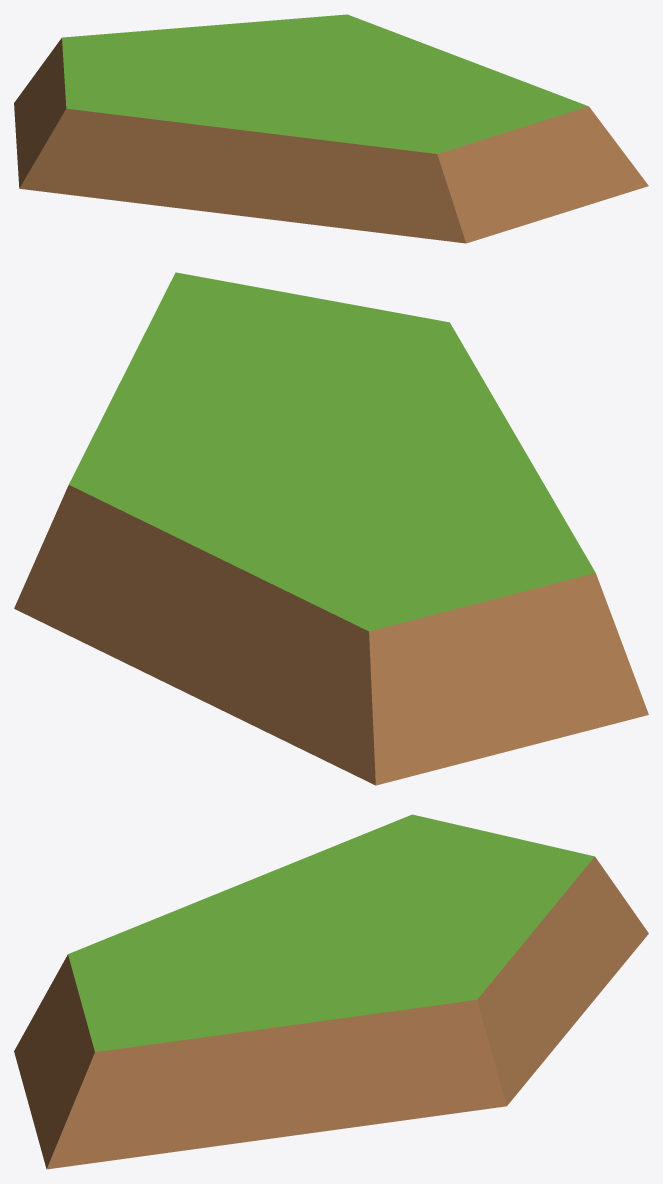
File: rock_smallFlatB.glb
The picture shows the model from 3 angles, top to bottom: view 1: azimuth 30°, elevation 25°; view 2: azimuth 150°, elevation 25°; view 3: azimuth 270°, elevation 25°; orthographic projection. The views are drawn at different scales.
Visible parts, largest first — view 1: rock_smallFlatB; view 2: rock_smallFlatB; view 3: rock_smallFlatB.
Boxes of the visible parts, x1,y1,x2,y2 form: rock_smallFlatB: [14, 14, 648, 243]; rock_smallFlatB: [14, 272, 648, 785]; rock_smallFlatB: [14, 814, 648, 1169].
Size of the model in its own units: 0.4295 by 0.0649 by 0.4024.
